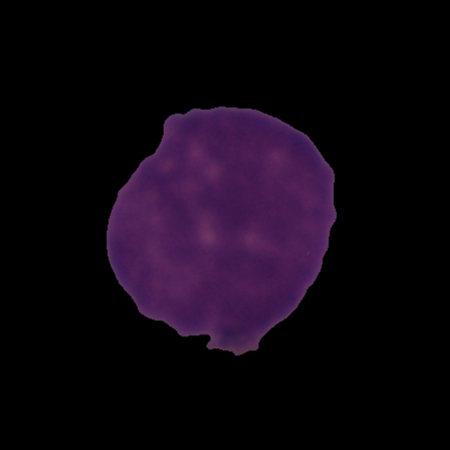HEM: (103, 103, 339, 357)
